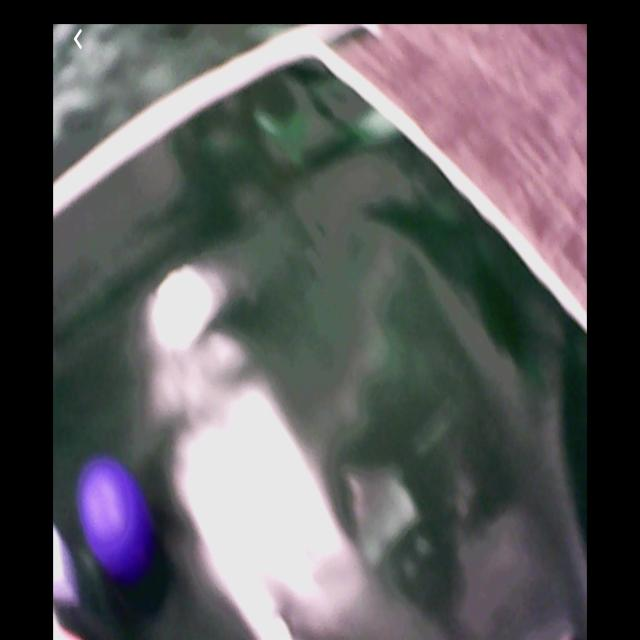ball: (80, 459, 150, 575)
